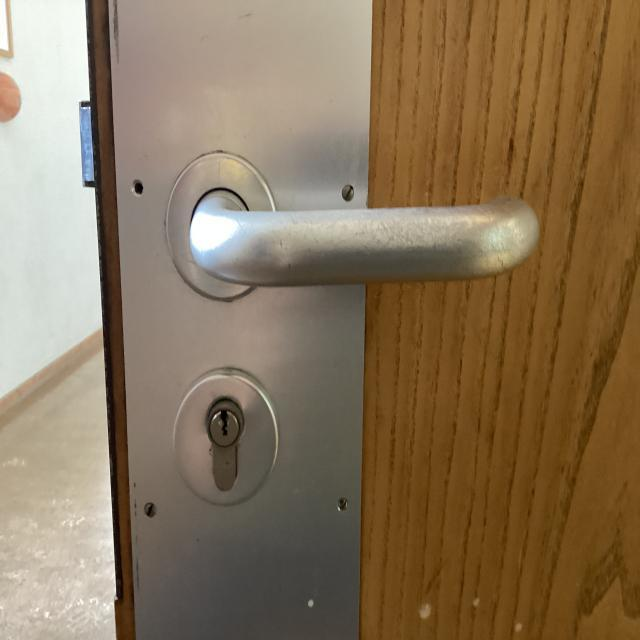doorhandle: (173, 145, 560, 498)
